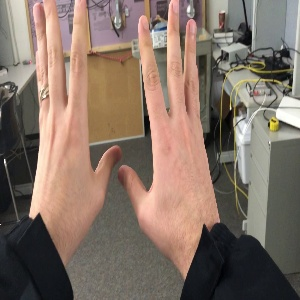hand: (118, 2, 219, 223), (33, 2, 120, 215)
